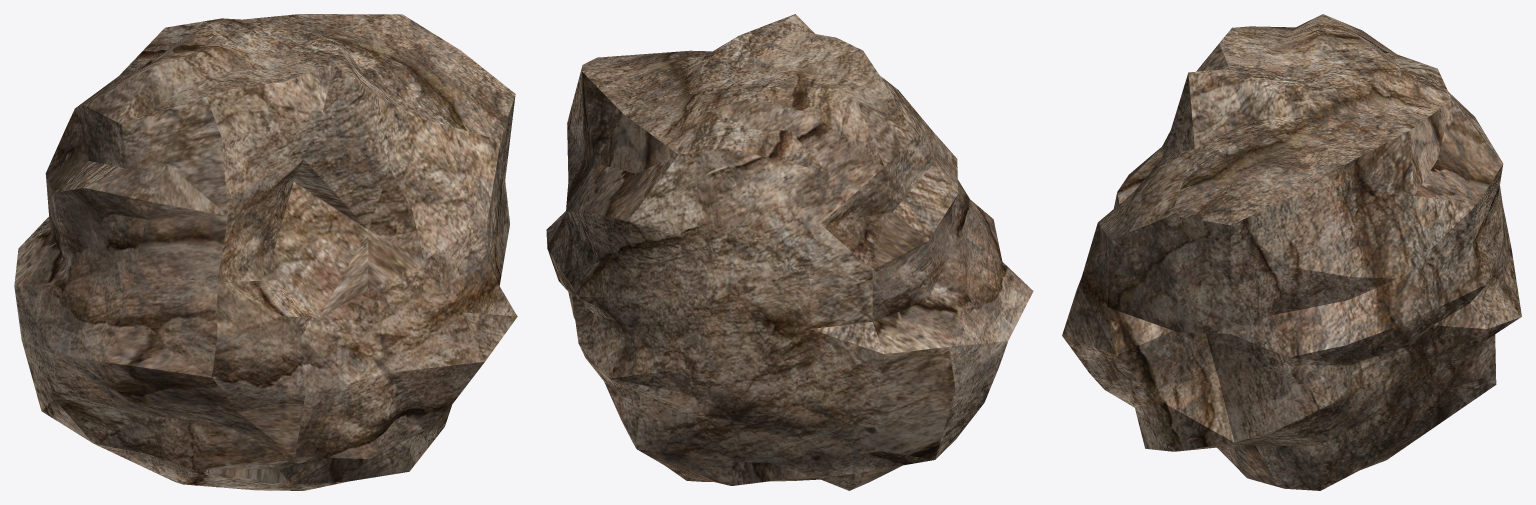
File: RockLargeRound_LOD2.dae
The picture shows the model from 3 angles, left to right: view 1: azimuth 30°, elevation 25°; view 2: azimuth 150°, elevation 25°; view 3: azimuth 270°, elevation 25°; orthographic projection. The views are drawn at different scales.
Parts seen in each view (by area): view 1: RockLargeRound_LOD2; view 2: RockLargeRound_LOD2; view 3: RockLargeRound_LOD2.
Boxes of the visible parts, x1,y1,x2,y2 form: RockLargeRound_LOD2: (14,14,517,490); RockLargeRound_LOD2: (546,14,1033,490); RockLargeRound_LOD2: (1062,14,1521,490).
Bounding box in the file's own units: 5.33 × 4.78 × 5.05.
